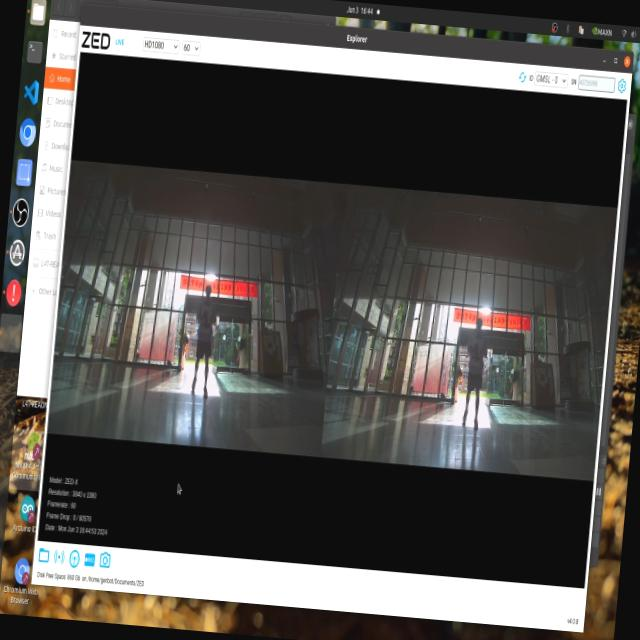blue: (196, 302, 214, 338), (468, 342, 482, 370)
